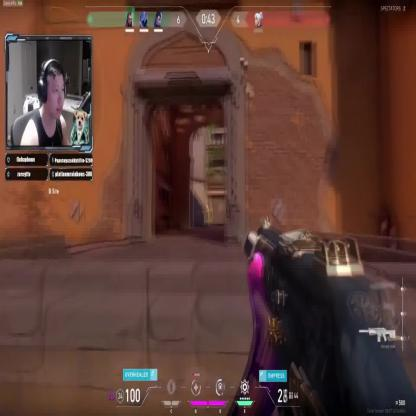enemy: (204, 204, 210, 227)
enemy_head: (206, 204, 208, 209)
